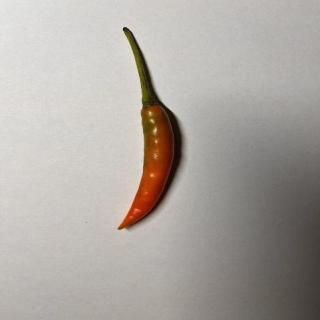Cabai Merah: (118, 27, 176, 231)
